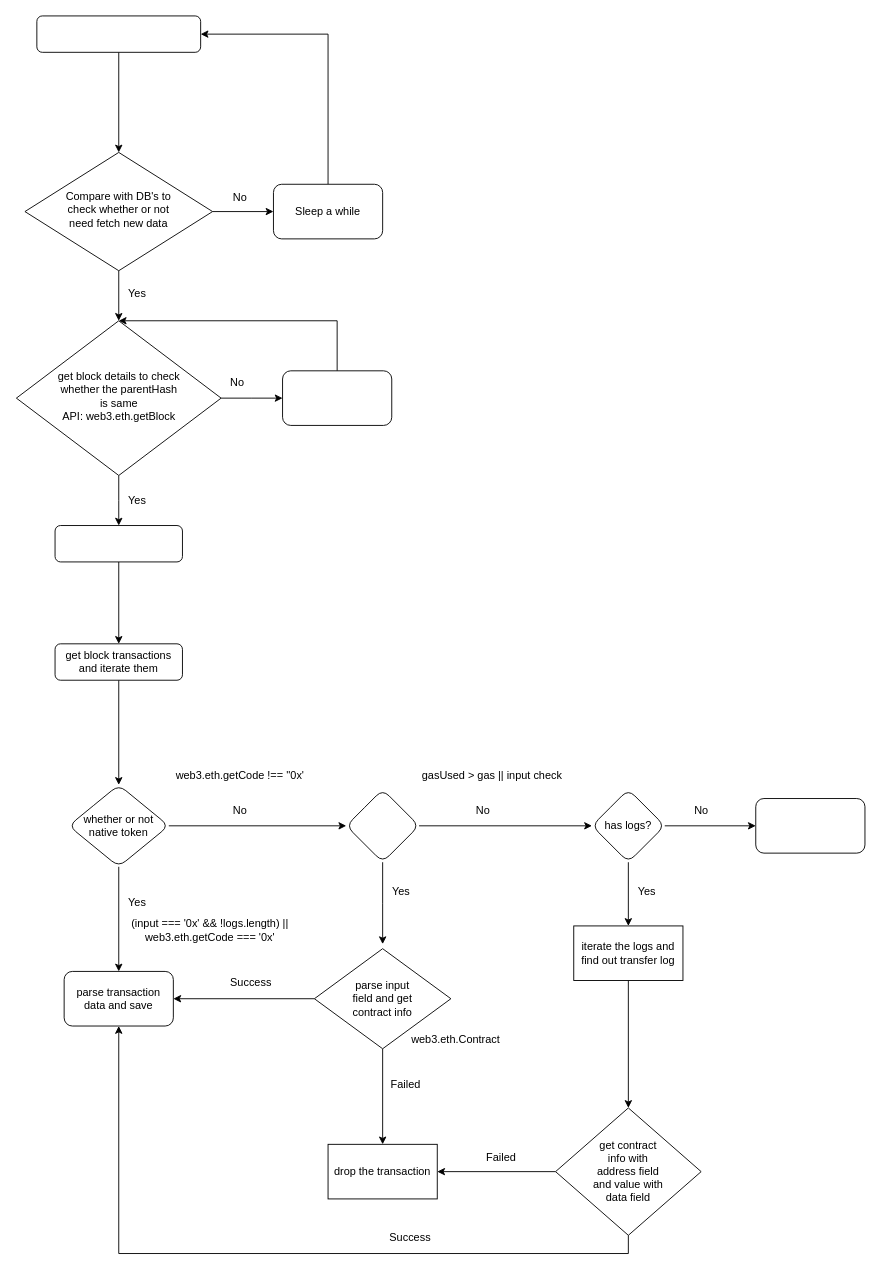
Some shapes in this 881 by 1277 pixel diagram are drawn without their labels. Each missing label, with the centre of its shape:
delete DB's data and reduce blockHeight 1 to fetch prev block: the point at 337,397
drop the log: the point at 810,825
get current block height API: web3.eth.getBlockNumber: the point at 118,33
normal transfer?: the point at 382,825
write block details to DB: the point at 118,543
